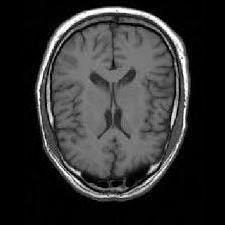Normal_Brain: (14, 1, 225, 225)
